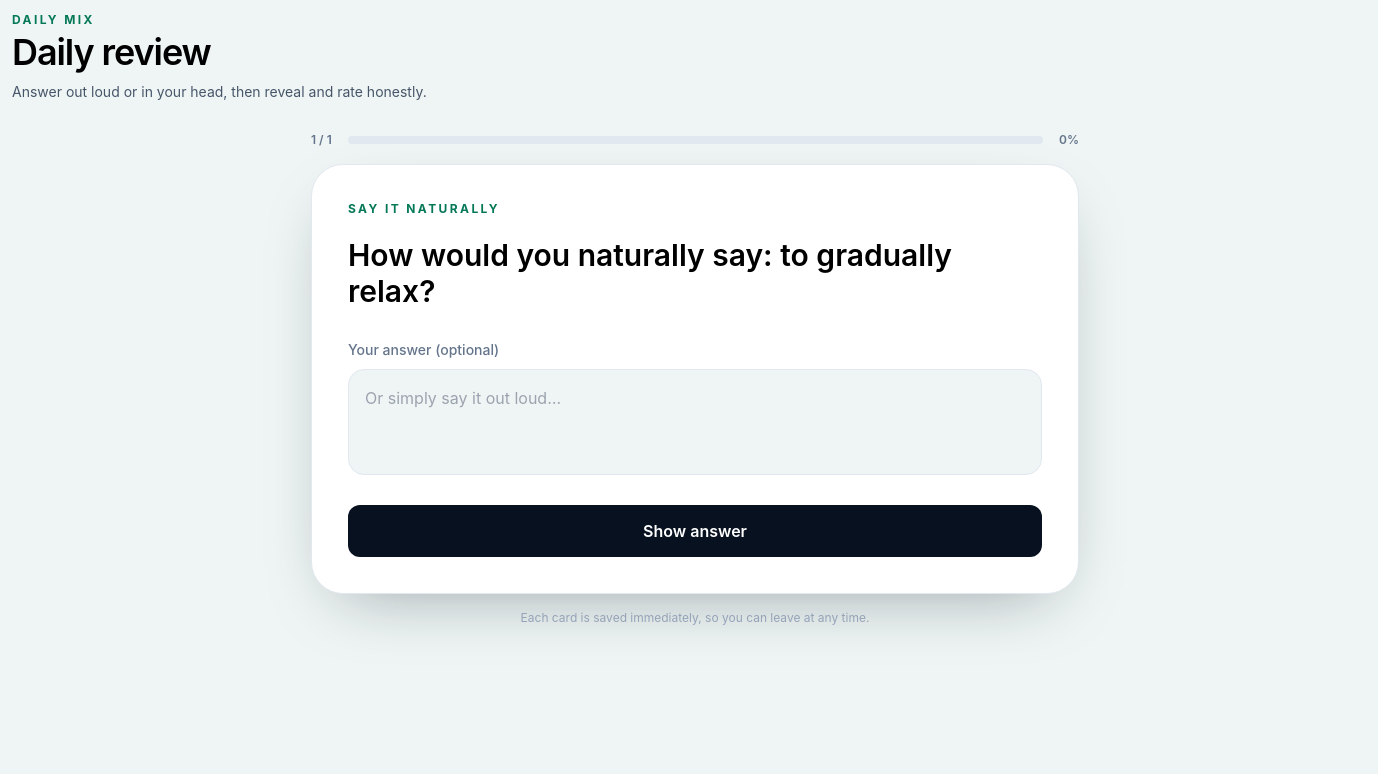
Test case: ReviewPage › keeps the current card visible when persistence fails
Expected: the heading "How would you naturally say: to gradually relax?" is shown, [348,237,1042,309]
Click the button "Show answer".
click(695, 531)  # box [348,505,1042,557]
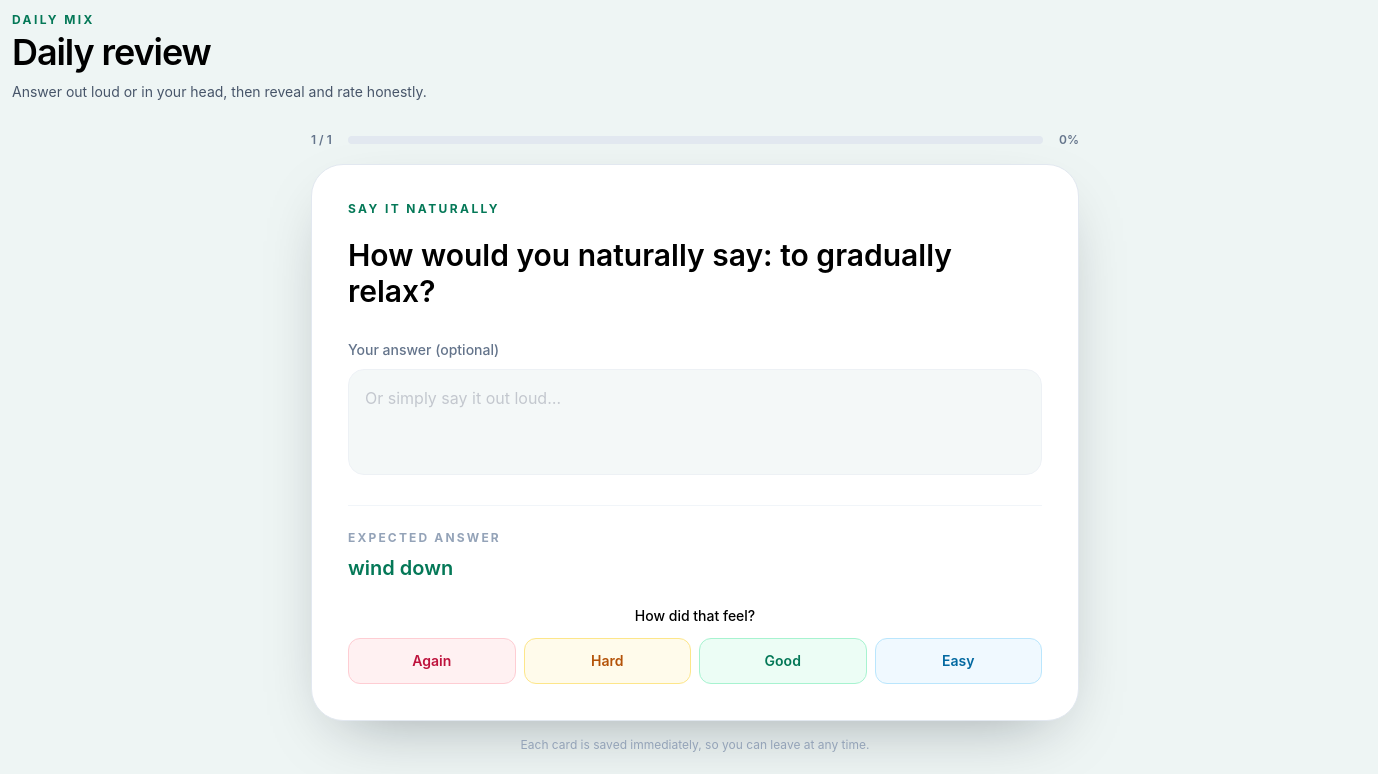
Click the button "Hard".
click(607, 661)  # box [524,638,691,684]
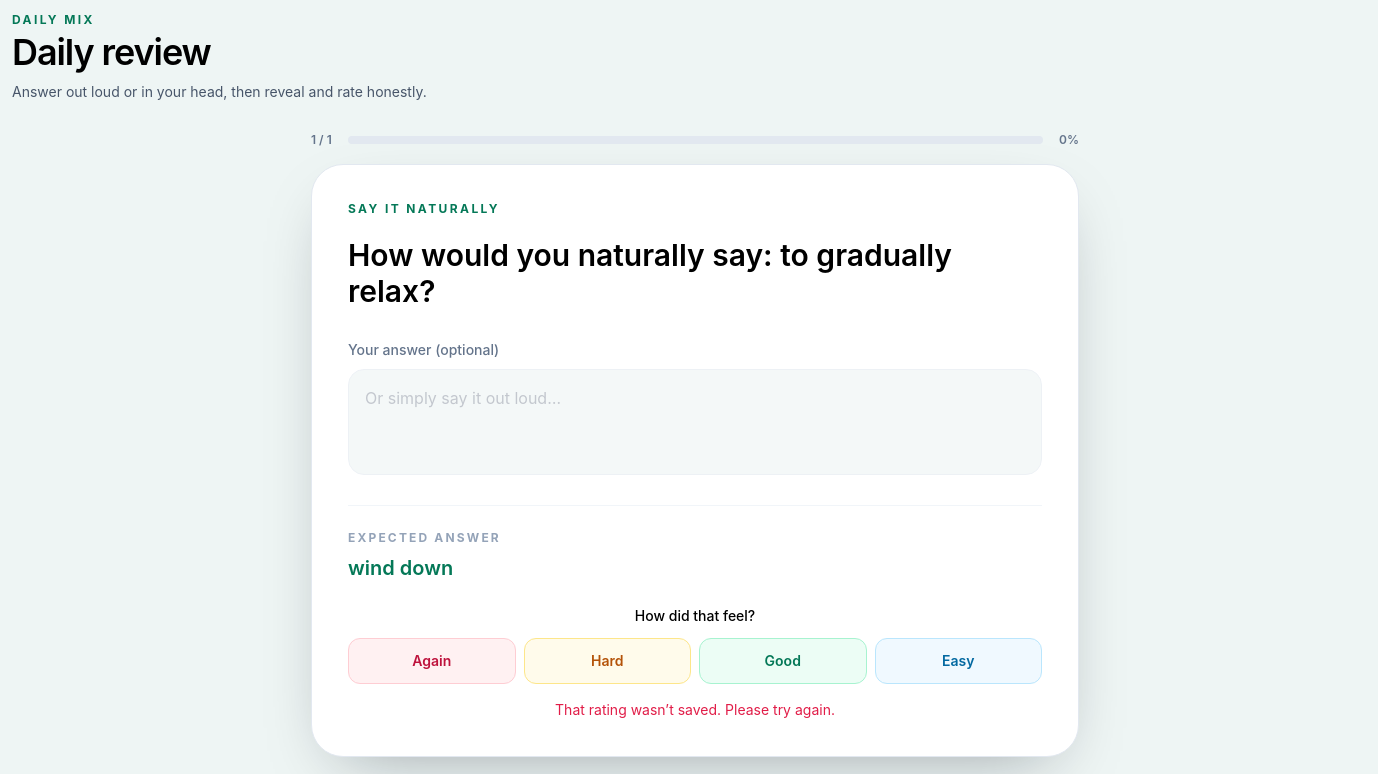
Expected: the heading "How would you naturally say: to gradually relax?" is shown, [348,237,1042,309]
Result: the message shows "wasn’t saved" at [555,701,835,718]
